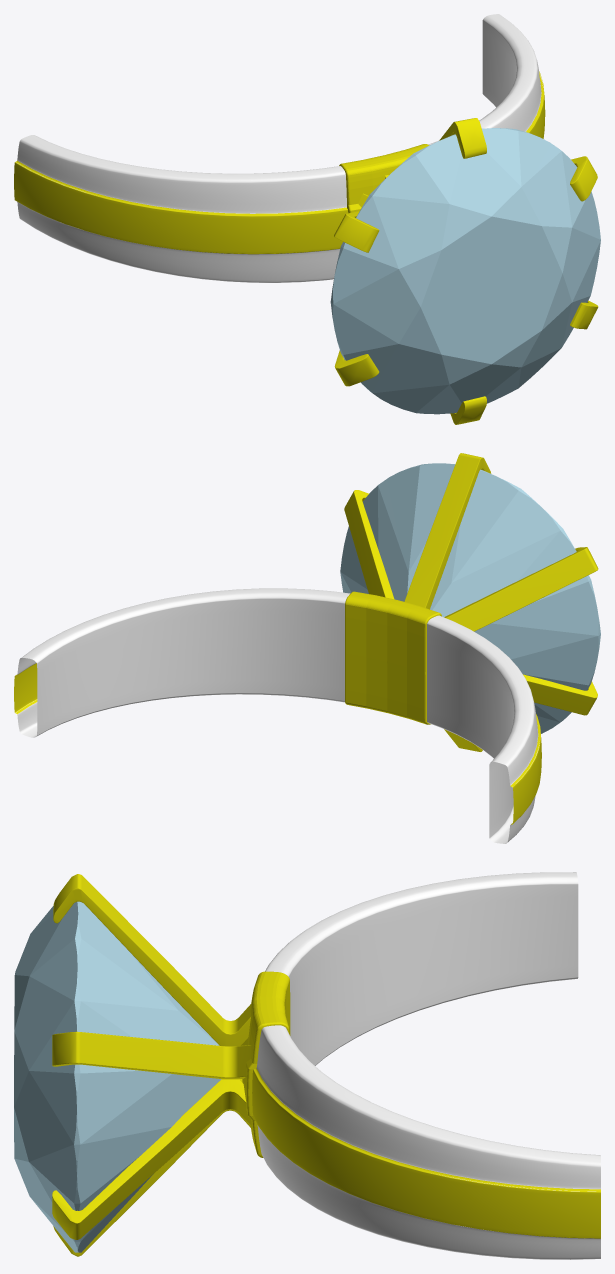
The model's file is Ring_2Top.fbx.
3 views of the same model, one above another, from view 1: azimuth 30°, elevation 25°; view 2: azimuth 150°, elevation 25°; view 3: azimuth 270°, elevation 25° (orthographic). The views are drawn at different scales.
Parts seen in each view (by area): view 1: RingTop; view 2: RingTop; view 3: RingTop.
Boxes of the visible parts, x1,y1,x2,y2 form: RingTop: (14, 14, 600, 424); RingTop: (14, 453, 600, 843); RingTop: (14, 872, 600, 1259).
Bounding box in the file's own units: 3.74 × 2.16 × 3.1.
